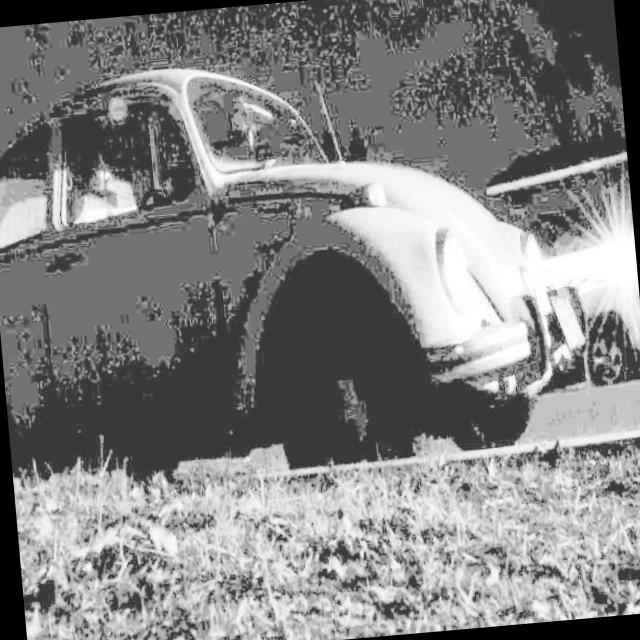Car: (0, 29, 575, 512)
